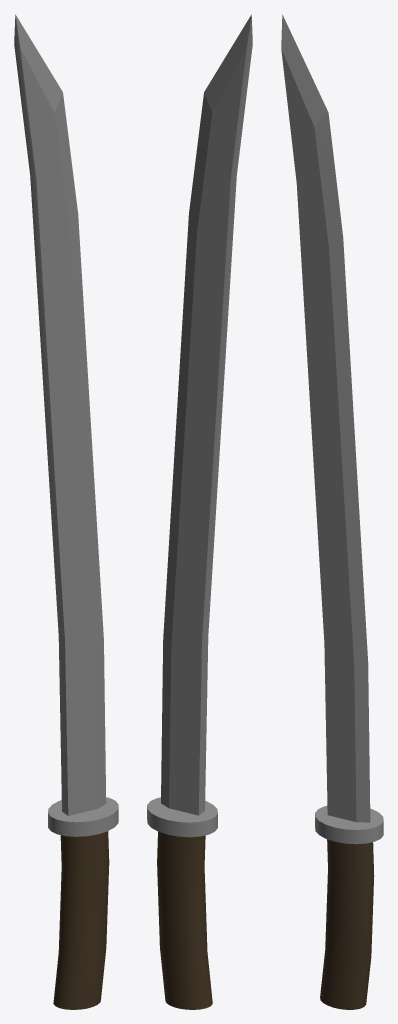
File: Katana.fbx
3 views of the same model, side by side, from view 1: azimuth 30°, elevation 25°; view 2: azimuth 150°, elevation 25°; view 3: azimuth 330°, elevation 25° (orthographic). The views are drawn at different scales.
Visible parts, largest first — view 1: pCube4, pCylinder2, pCylinder3; view 2: pCube4, pCylinder2, pCylinder3; view 3: pCube4, pCylinder2, pCylinder3.
Boxes of the visible parts, x1,y1,x2,y2 form: pCube4: (14,14,106,815); pCylinder2: (53,831,109,1009); pCylinder3: (48,797,118,836); pCube4: (161,14,252,815); pCylinder2: (157,831,212,1009); pCylinder3: (147,797,217,837); pCube4: (281,14,370,822); pCylinder2: (320,839,374,1009); pCylinder3: (315,806,383,844).
Bounding box in the file's own units: 4.82 × 45.76 × 2.46.
